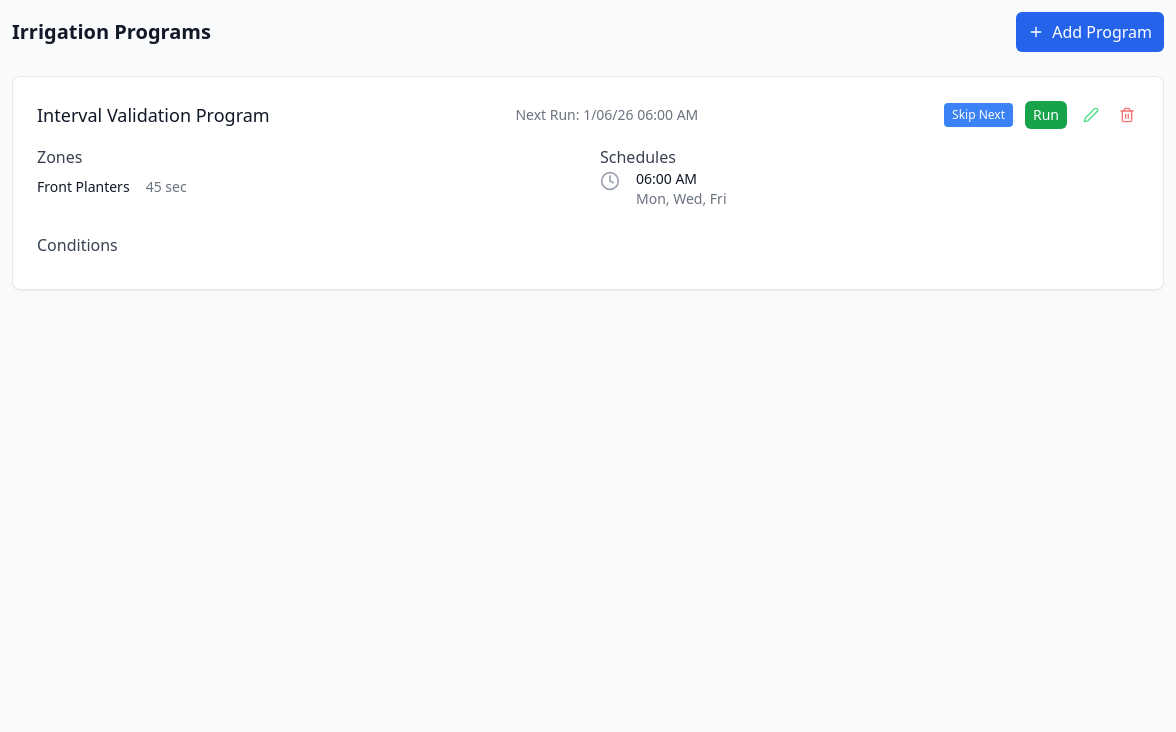
Test: ProgramManager › blocks saving an enabled every-N-days schedule when the interval is less than 2
Click the button named "Edit program Interval Validation Program". click: point(1091, 115)
box: [1079, 103, 1103, 127]
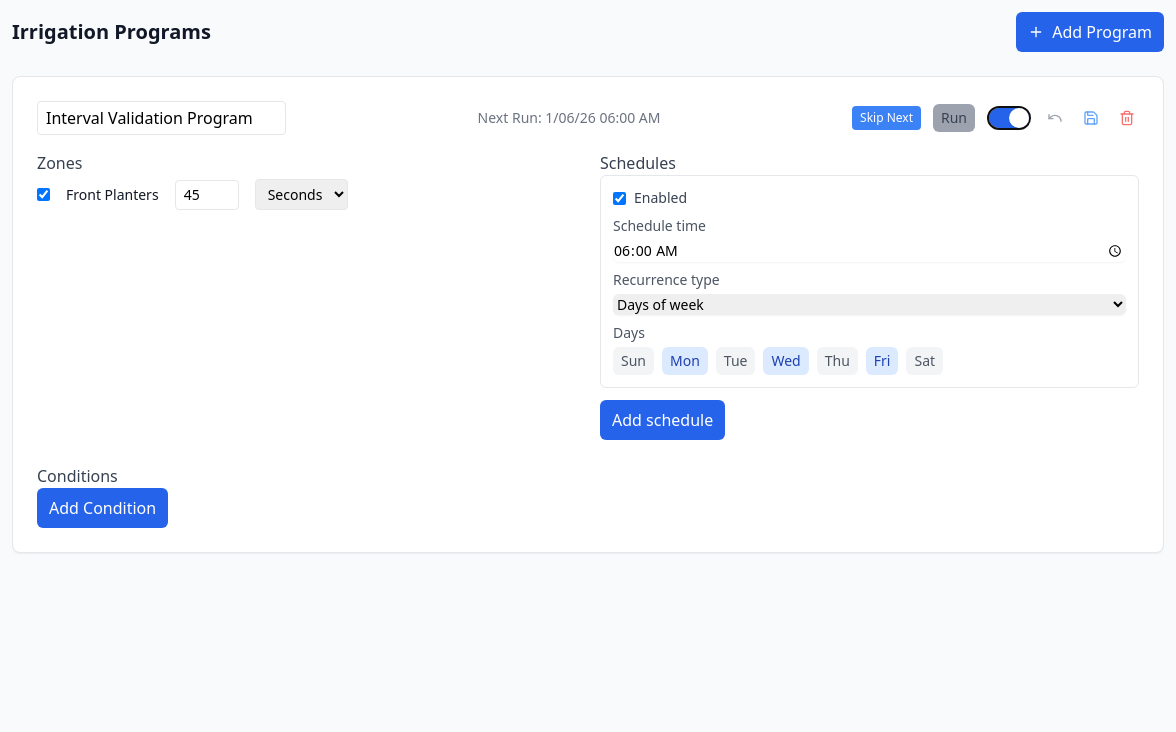
Select "Every N days" in the dropdown named "Recurrence type". click: point(870, 304)
box: [613, 294, 1126, 315]
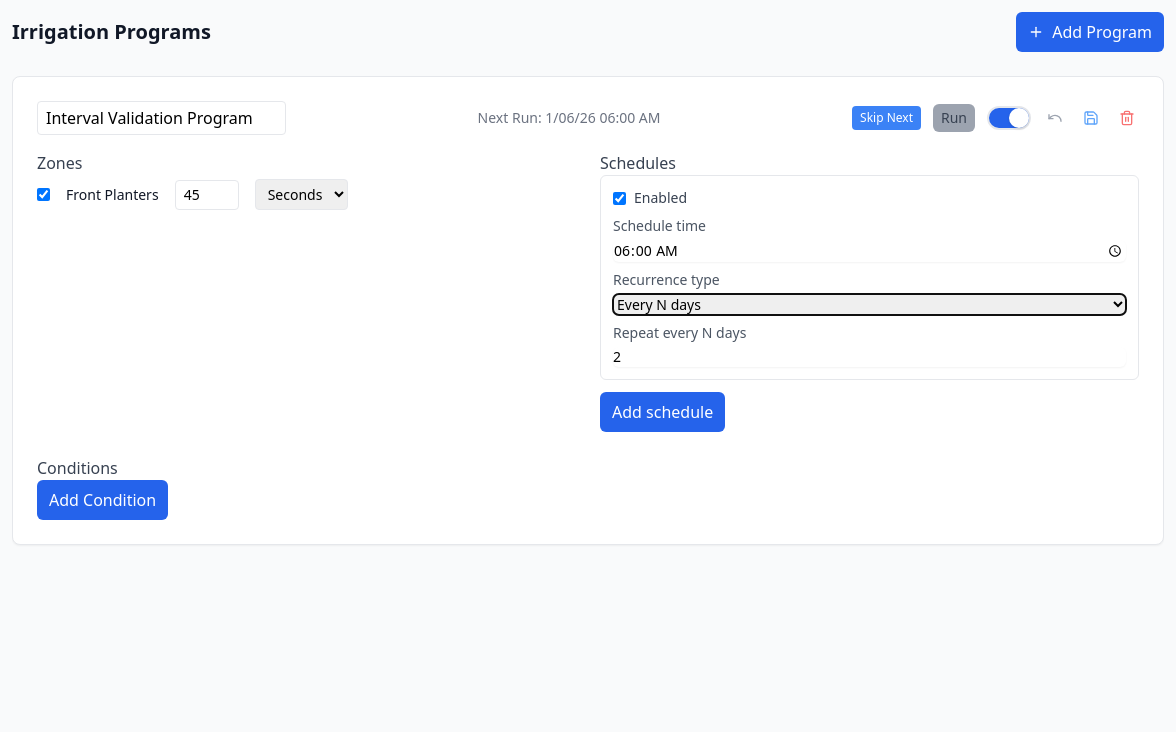
Replace the text in the number field named "Repeat every N days" with "1". click: point(870, 357)
box: [613, 347, 1126, 367]
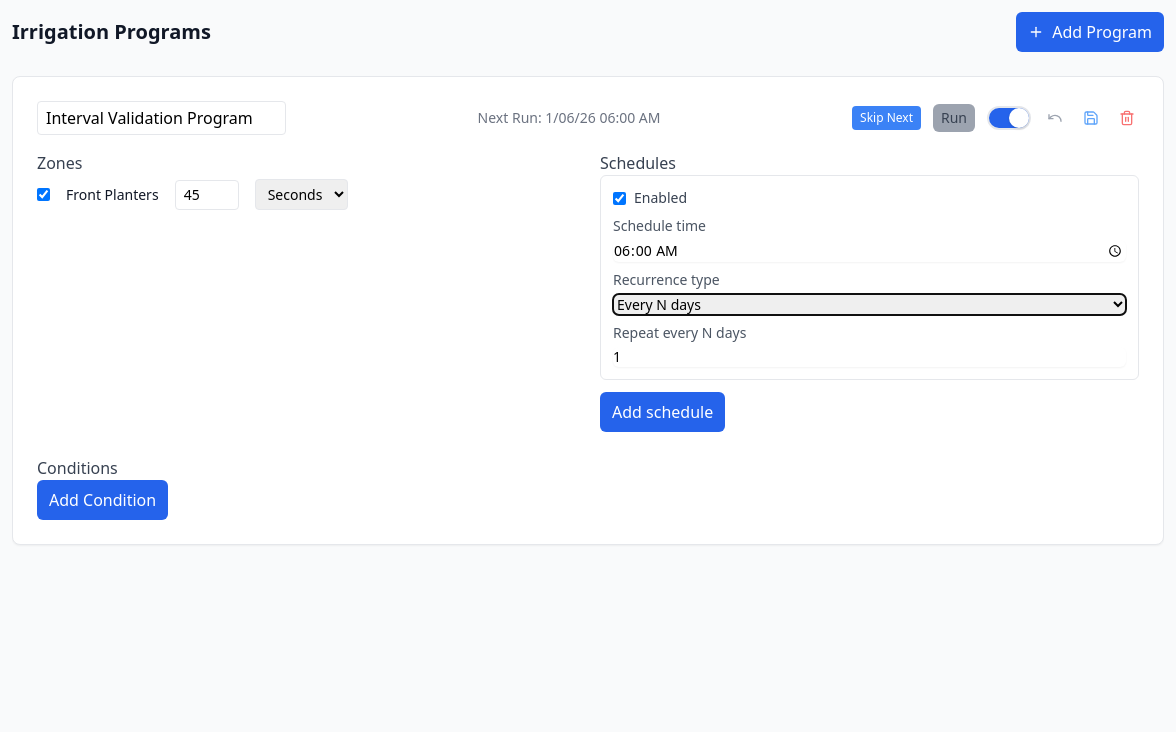
Click the button named "Save program Interval Validation Program". click: point(1091, 118)
box: [1079, 106, 1103, 130]
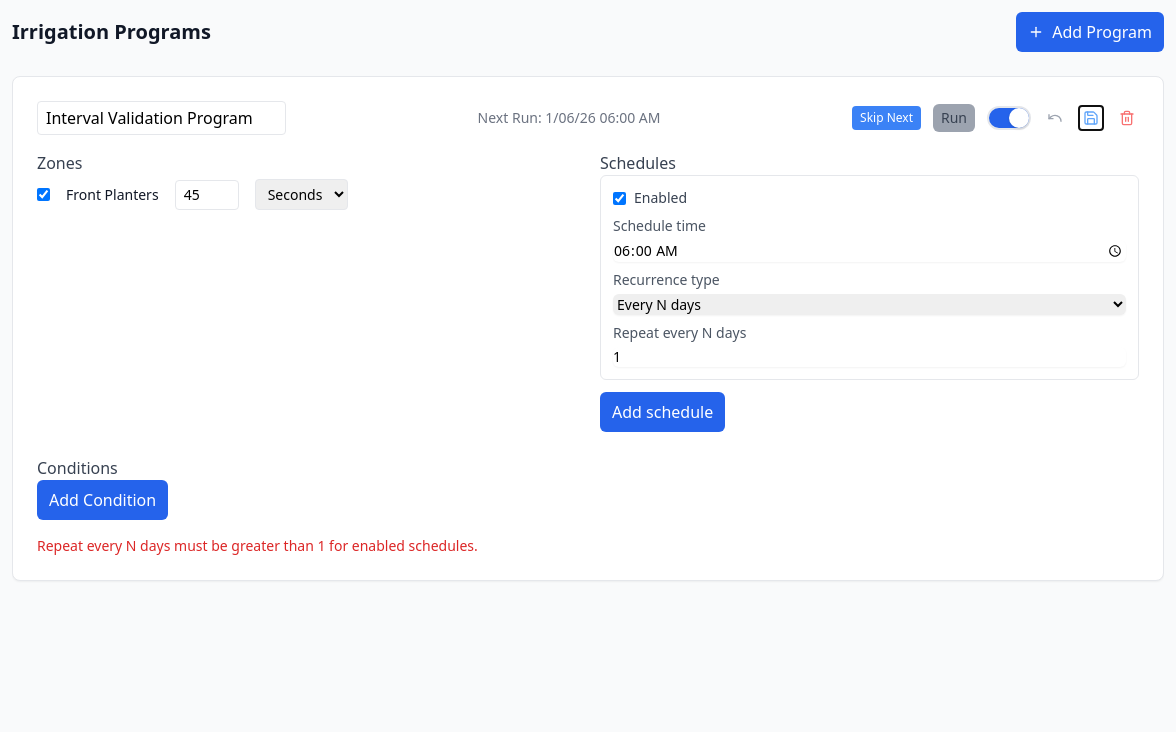
Now the text "Repeat every N days must be greater than 1 for enabled schedules." is shown, box [37, 536, 478, 555]
